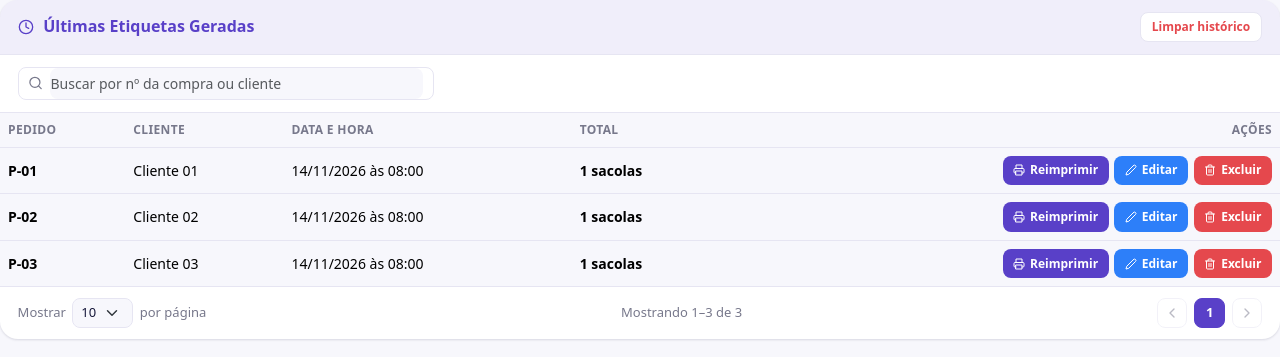
Test: HistoryTable — busca › avisa quando nenhum registro corresponde à busca
Type "inexistente" into the search field at (237, 83), box [50,68,423,99]
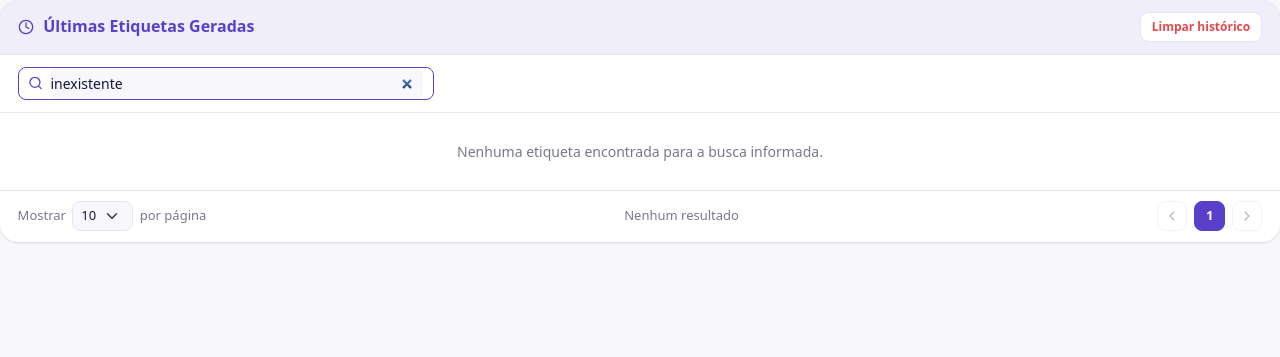
Check: the text "Nenhuma etiqueta encontrada para a busca informada." is shown, box [457,142,823,161]
Check: the text "Nenhum resultado" is shown, box [624,206,739,226]
